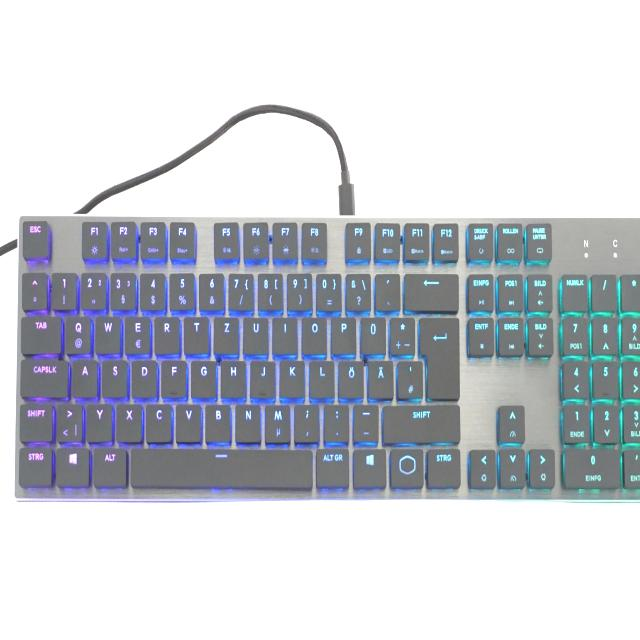0: (315, 271, 341, 313)
1: (49, 270, 77, 310)
2: (80, 270, 107, 311)
3: (109, 270, 137, 311)
4: (140, 271, 166, 311)
5: (168, 270, 196, 311)
6: (198, 271, 225, 311)
7: (227, 271, 253, 311)
8: (257, 270, 283, 312)
9: (286, 270, 312, 312)
a: (71, 358, 98, 398)
accent: (374, 271, 400, 311)
ae: (366, 359, 394, 400)
alt-left: (91, 445, 127, 487)
altgr-right: (314, 446, 350, 488)
b: (204, 403, 232, 443)
c: (145, 402, 173, 442)
caret: (21, 270, 47, 310)
comma: (294, 403, 320, 443)
d: (131, 359, 157, 399)
del: (403, 271, 458, 311)
e: (124, 315, 151, 355)
enter: (420, 315, 460, 399)
f: (160, 358, 186, 397)
g: (190, 358, 216, 398)
h: (220, 358, 246, 397)
hash: (396, 359, 423, 400)
i: (272, 316, 298, 355)
j: (249, 359, 275, 399)
k: (279, 359, 305, 399)
keyboard: (10, 210, 640, 503)
l: (308, 358, 334, 398)
less: (56, 401, 82, 442)
m: (264, 403, 291, 443)
minus: (352, 403, 379, 444)
n: (235, 403, 261, 443)
o: (301, 316, 328, 355)
oe: (338, 359, 364, 399)
p: (330, 315, 356, 355)
plus: (389, 315, 415, 356)
point: (323, 403, 349, 442)
q: (63, 314, 92, 354)
r: (152, 315, 180, 355)
s: (101, 358, 127, 398)
shift-left: (19, 401, 53, 441)
shift-lock: (20, 357, 68, 397)
shift-right: (382, 403, 460, 443)
space: (129, 447, 313, 489)
ss: (345, 271, 372, 311)
strg-left: (18, 445, 52, 487)
strg-right: (426, 446, 461, 488)
t: (182, 314, 209, 354)
tab: (20, 314, 61, 354)
u: (242, 316, 269, 356)
ue: (360, 315, 386, 355)
v: (175, 402, 202, 442)
w: (94, 315, 121, 355)
x: (115, 402, 142, 442)
y: (85, 403, 111, 443)
z: (213, 315, 239, 355)
